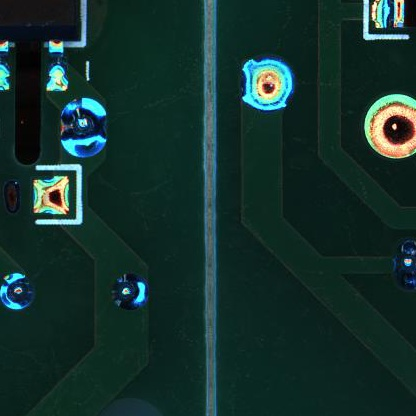spot: (363, 93, 416, 159), (61, 98, 110, 159), (242, 58, 295, 112), (111, 272, 150, 310), (1, 272, 34, 313)
